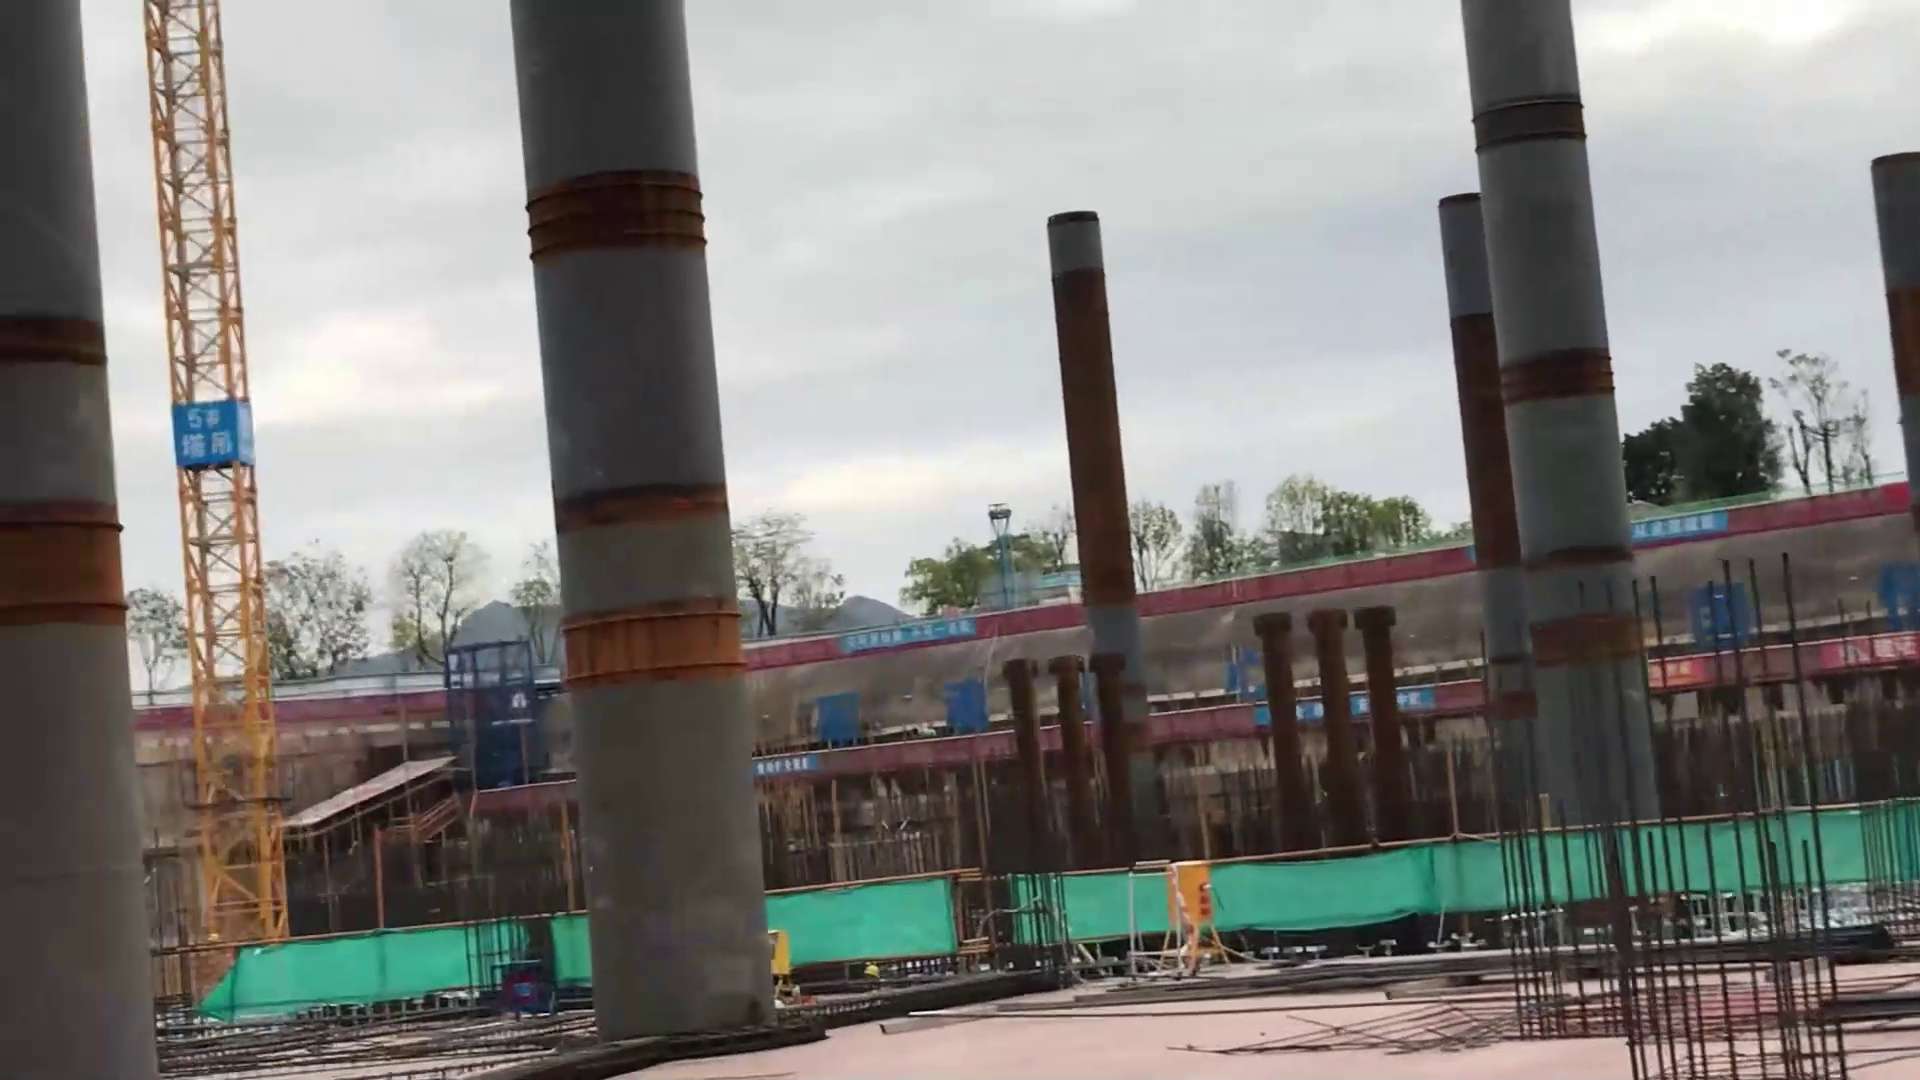ebox: (1153, 858, 1230, 985)
